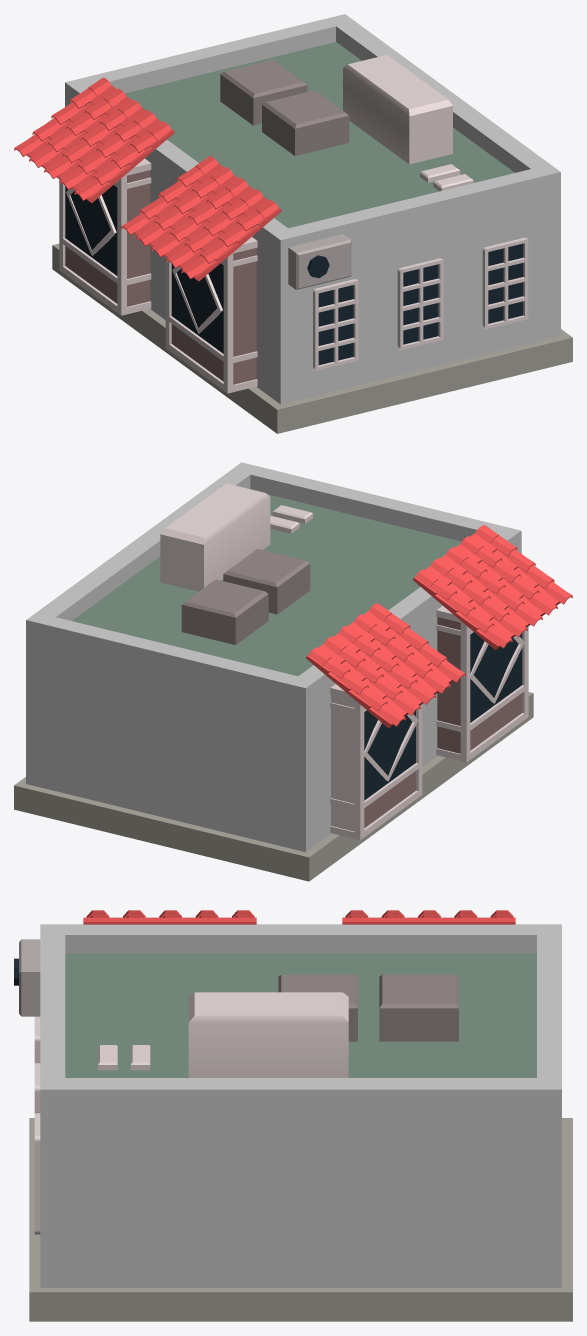
The model's file is building05.fbx.
3 views of the same model, one above another, from view 1: azimuth 30°, elevation 25°; view 2: azimuth 150°, elevation 25°; view 3: azimuth 270°, elevation 25° (orthographic). The views are drawn at different scales.
Visible parts, largest first — view 1: building05; view 2: building05; view 3: building05.
Part boxes in pixels (left/top/right/bottom): building05: left=14, top=14, right=572, bottom=433; building05: left=14, top=462, right=572, bottom=881; building05: left=14, top=910, right=572, bottom=1321.
Bounding box in the file's own units: 96.72 × 108 × 57.97.
